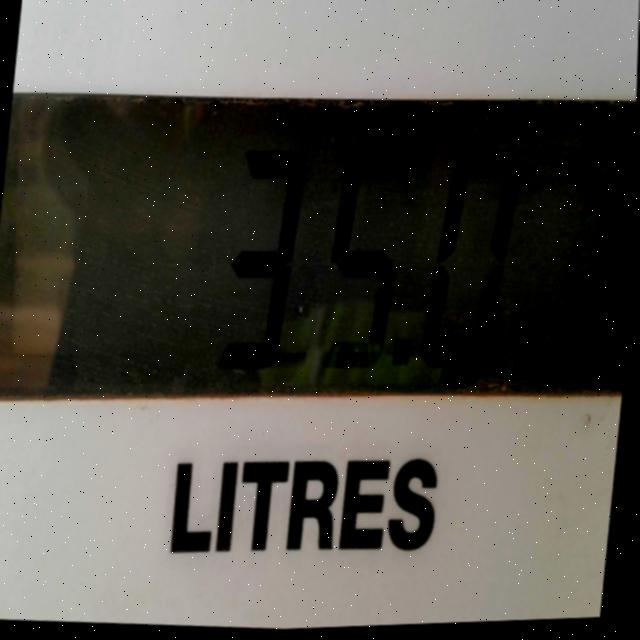.: (383, 329, 417, 389)
0: (196, 140, 332, 415), (409, 137, 532, 376)
1: (544, 134, 636, 385)
5: (309, 137, 415, 390)
